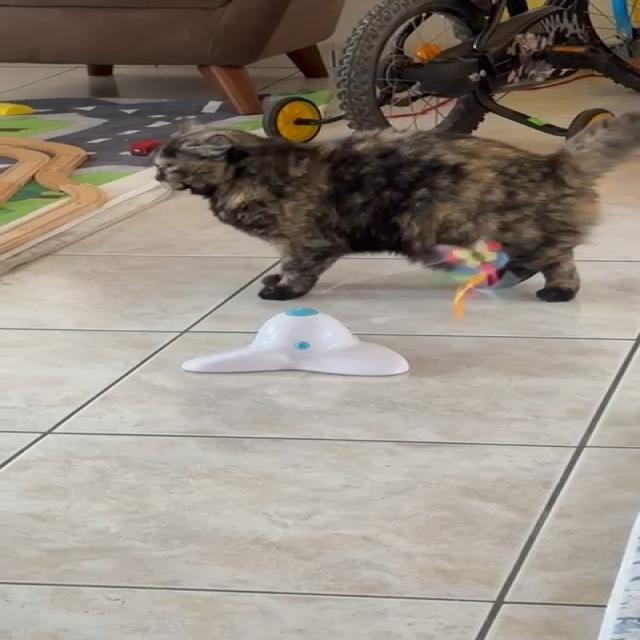authorized: (149, 109, 639, 302)
